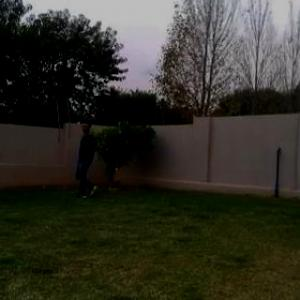follow: (74, 118, 94, 200)
